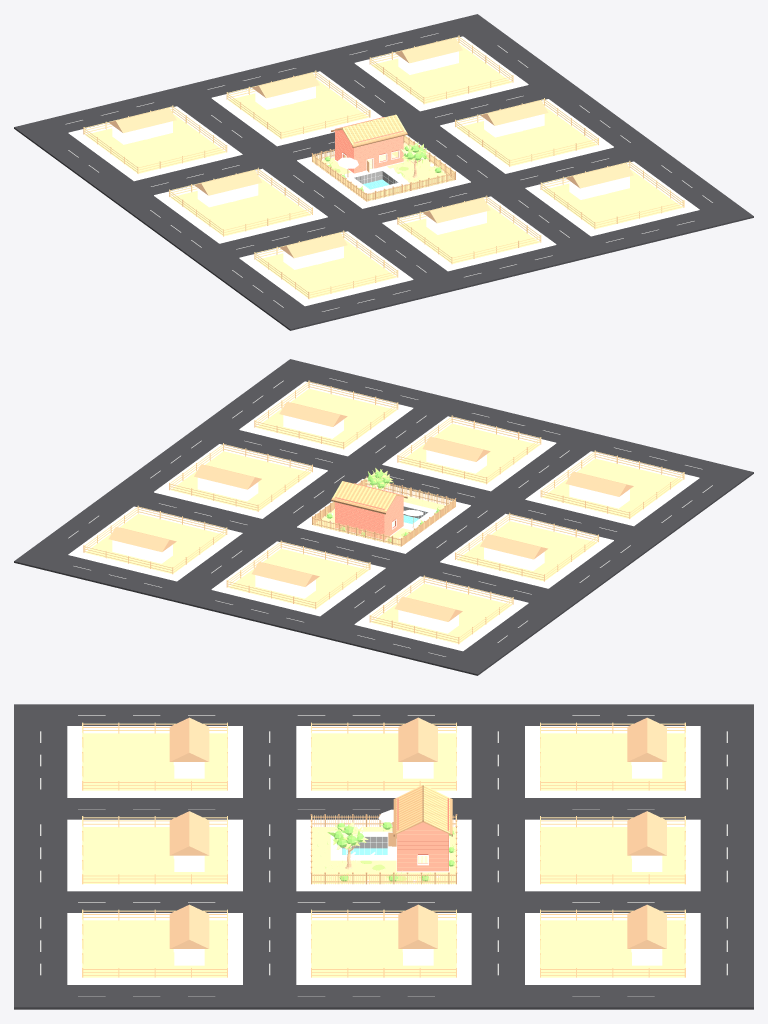
3 renders of one model, top to bottom at view 1: azimuth 30°, elevation 25°; view 2: azimuth 150°, elevation 25°; view 3: azimuth 270°, elevation 25°, orthographic. The views are drawn at different scales.
Visible parts, largest first — view 1: City_Asphalt, MiniYard_Lawn, City_Sidewalk, MiniYard_Fence, MiniYard_Roof, MiniYard_House, House_WallBoards, Fence_Pickets, Yard_Lawn, MiniYard_DoorWindow, City_RoadLines, House_RoofPlanks_A (+2 smaller); view 2: City_Asphalt, MiniYard_Lawn, City_Sidewalk, MiniYard_Fence, MiniYard_Roof, MiniYard_House, Fence_Pickets, House_WallBoards, City_RoadLines, Fence_Frame, House_RoofPlanks_A, Yard_Lawn (+1 smaller); view 3: City_Asphalt, MiniYard_Lawn, City_Sidewalk, MiniYard_Roof, MiniYard_Fence, MiniYard_House, Yard_Lawn, House_WallBoards, City_RoadLines, House_RoofPlanks_A, House_RoofPlanks_B, Fence_Pickets (+2 smaller).
Part boxes in pixels (x1=…): City_Asphalt: x1=14, y1=14, x2=753, y2=330; MiniYard_Lawn: x1=85, y1=44, x2=682, y2=298; City_Sidewalk: x1=68, y1=36, x2=699, y2=306; MiniYard_Fence: x1=83, y1=35, x2=684, y2=299; MiniYard_Roof: x1=108, y1=38, x2=633, y2=258; MiniYard_House: x1=112, y1=51, x2=629, y2=269; House_WallBoards: x1=335, y1=117, x2=403, y2=173; Fence_Pickets: x1=312, y1=135, x2=454, y2=201; Yard_Lawn: x1=322, y1=143, x2=453, y2=200; MiniYard_DoorWindow: x1=133, y1=54, x2=620, y2=264; City_RoadLines: x1=65, y1=33, x2=712, y2=311; House_RoofPlanks_A: x1=335, y1=114, x2=406, y2=144; City_Asphalt: x1=14, y1=359, x2=753, y2=675; MiniYard_Lawn: x1=85, y1=388, x2=682, y2=643; City_Sidewalk: x1=68, y1=381, x2=699, y2=651; MiniYard_Fence: x1=83, y1=380, x2=684, y2=644; MiniYard_Roof: x1=108, y1=402, x2=633, y2=621; MiniYard_House: x1=112, y1=415, x2=629, y2=633; Fence_Pickets: x1=313, y1=479, x2=455, y2=546; House_WallBoards: x1=335, y1=483, x2=403, y2=539; City_RoadLines: x1=68, y1=378, x2=712, y2=656; Fence_Frame: x1=312, y1=476, x2=456, y2=546; House_RoofPlanks_A: x1=332, y1=481, x2=404, y2=511; Yard_Lawn: x1=314, y1=495, x2=445, y2=545; City_Asphalt: x1=14, y1=704, x2=753, y2=1009; MiniYard_Lawn: x1=83, y1=733, x2=684, y2=977; City_Sidewalk: x1=67, y1=726, x2=700, y2=984; MiniYard_Roof: x1=169, y1=717, x2=666, y2=948; MiniYard_Fence: x1=82, y1=722, x2=685, y2=977; MiniYard_House: x1=174, y1=762, x2=662, y2=965; Yard_Lawn: x1=312, y1=827, x2=455, y2=883; House_WallBoards: x1=397, y1=798, x2=448, y2=871; City_RoadLines: x1=40, y1=715, x2=727, y2=996; House_RoofPlanks_A: x1=396, y1=785, x2=449, y2=833; House_RoofPlanks_B: x1=396, y1=786, x2=449, y2=831; Fence_Pickets: x1=311, y1=815, x2=456, y2=884.
Bounding box in the file's own units: 9400 × 956 × 9700.
